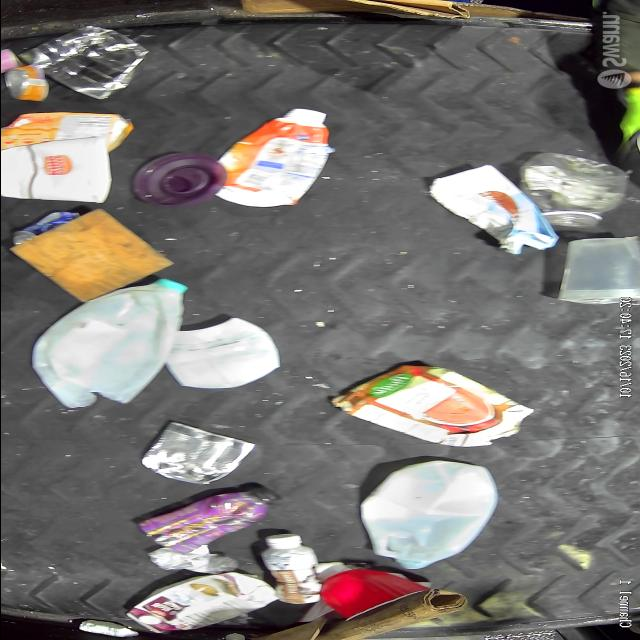can: (139, 418, 259, 484), (48, 24, 140, 96), (0, 66, 51, 105)
milk_jug: (29, 276, 192, 410), (362, 462, 498, 565)
